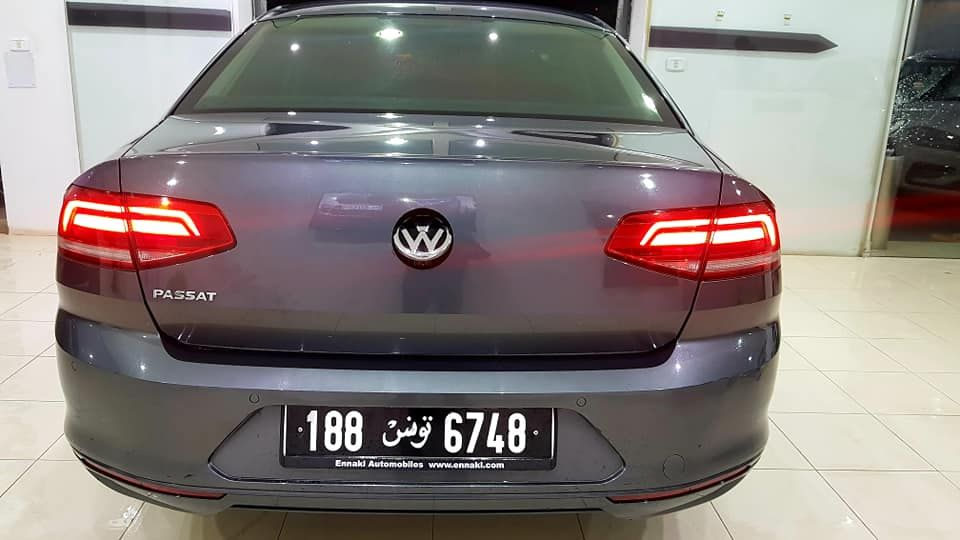LP: (284, 400, 552, 465)
